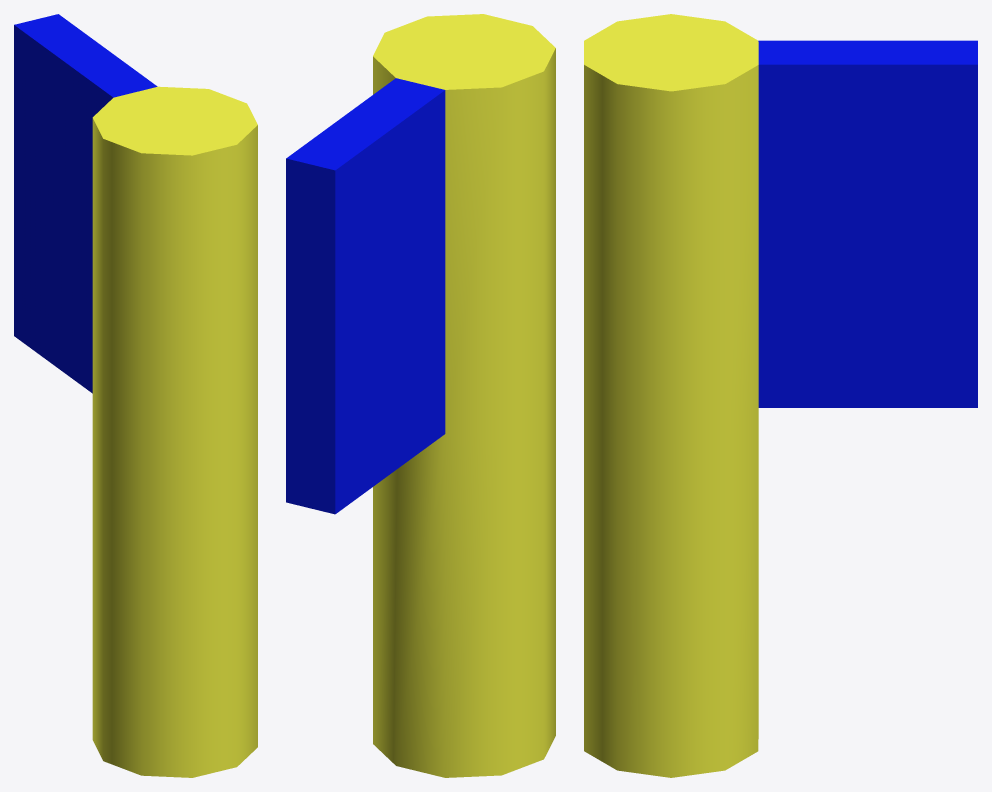
Rendered from BlueFlag.FBX.
The picture shows the model from 3 angles, left to right: view 1: azimuth 30°, elevation 25°; view 2: azimuth 150°, elevation 25°; view 3: azimuth 270°, elevation 25°; orthographic projection. The views are drawn at different scales.
Visible parts, largest first — view 1: Cylinder001; view 2: Cylinder001; view 3: Cylinder001.
Part boxes in pixels (x1=…): Cylinder001: x1=14, y1=14, x2=257, y2=777; Cylinder001: x1=286, y1=14, x2=555, y2=777; Cylinder001: x1=584, y1=14, x2=977, y2=777.
Bounding box in the file's own units: 1.67 × 6.9 × 3.59.
